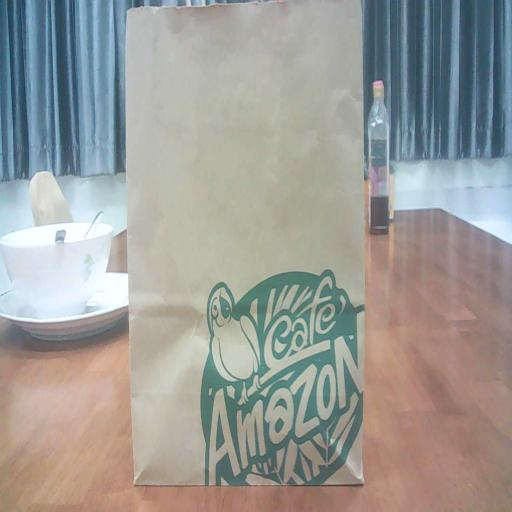bag: (123, 10, 366, 495)
